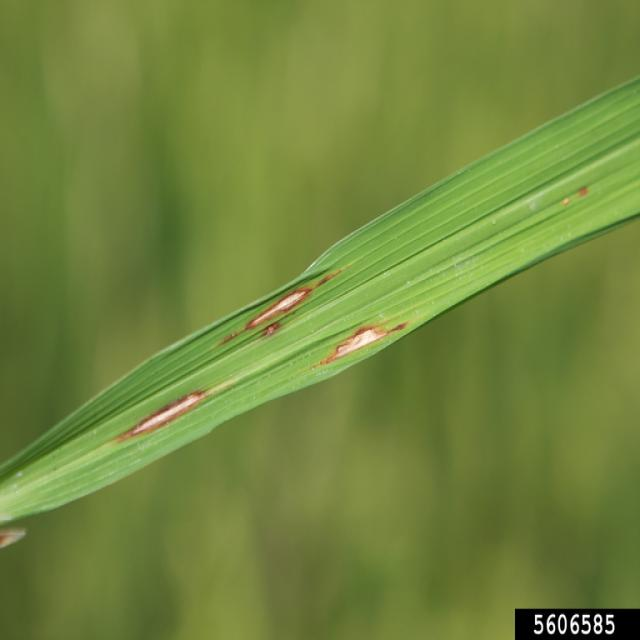Leaf blast: (0, 76, 640, 527)
